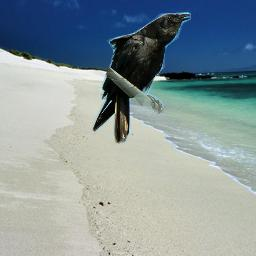Crow: (92, 12, 191, 145)
